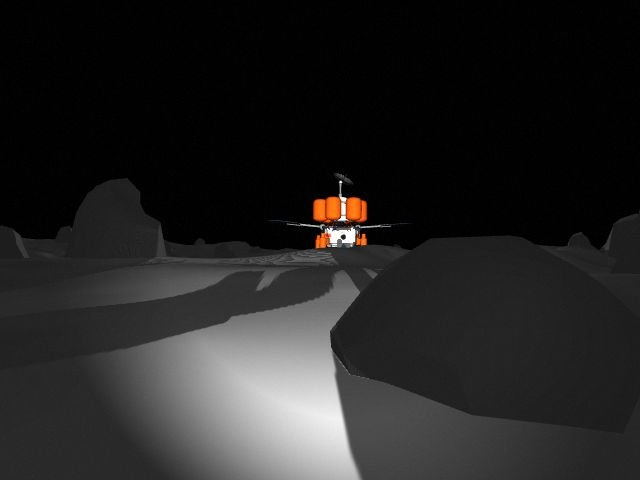homebase: (262, 171, 413, 261)
